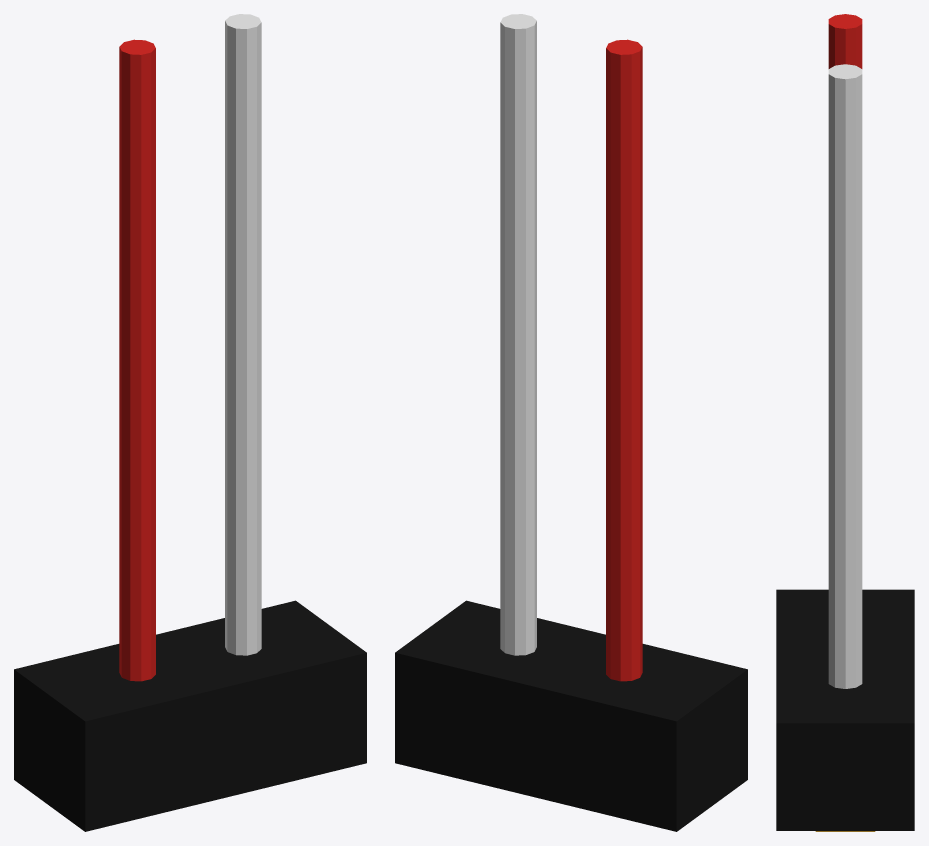
File: BellWirePlug 1.obj
The picture shows the model from 3 angles, left to right: view 1: azimuth 30°, elevation 25°; view 2: azimuth 150°, elevation 25°; view 3: azimuth 270°, elevation 25°; orthographic projection. The views are drawn at different scales.
Parts seen in each view (by area): view 1: Housing, Wire_White, Wire_Red; view 2: Housing, Wire_White, Wire_Red; view 3: Housing, Wire_White, Wire_Red.
Boxes of the visible parts, bbox=[...] form: Housing: bbox=[14, 600, 366, 831]; Wire_White: bbox=[225, 14, 261, 655]; Wire_Red: bbox=[119, 39, 155, 681]; Housing: bbox=[395, 600, 747, 831]; Wire_White: bbox=[500, 14, 536, 655]; Wire_Red: bbox=[606, 39, 642, 681]; Housing: bbox=[776, 589, 914, 830]; Wire_White: bbox=[828, 64, 862, 688]; Wire_Red: bbox=[828, 14, 862, 68].
Size of the model in its own units: 0.032 by 0.0815 by 0.014.
